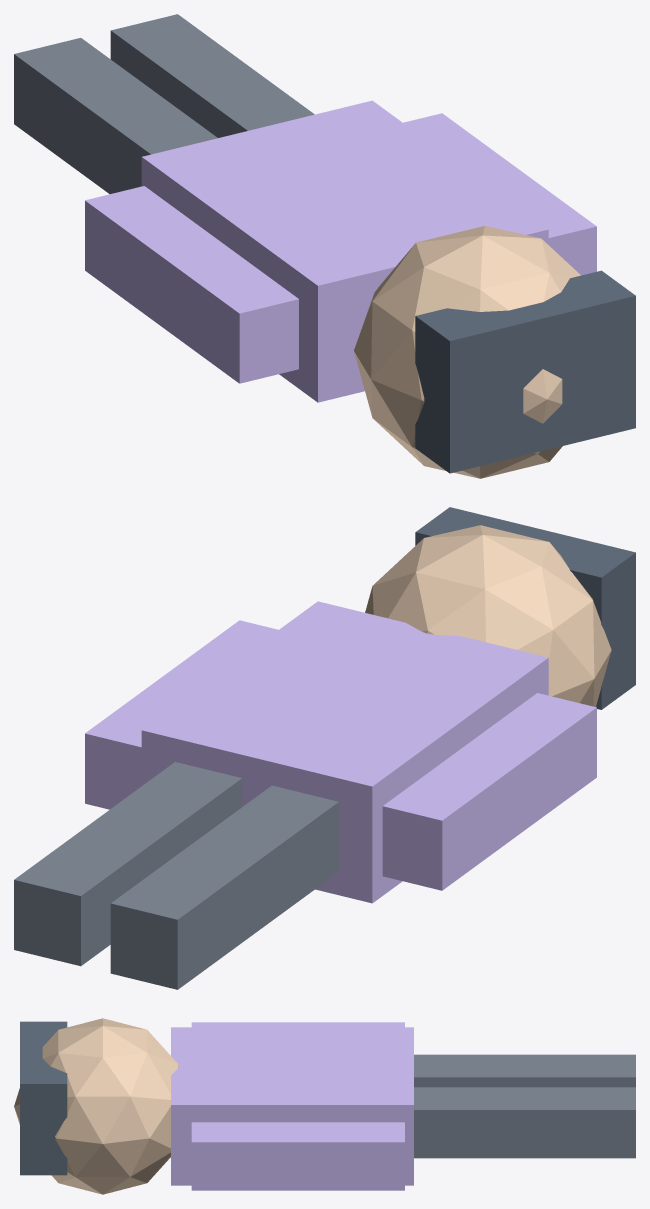
Rendered from manager.glb.
3 views of the same model, one above another, from view 1: azimuth 30°, elevation 25°; view 2: azimuth 150°, elevation 25°; view 3: azimuth 270°, elevation 25° (orthographic). The views are drawn at different scales.
Visible parts, largest first — view 1: torso_2, hair_6, arm_l_3, head_5, leg_l_0, leg_r_1, arm_r_4; view 2: torso_2, leg_l_0, arm_l_3, head_5, leg_r_1, arm_r_4, hair_6; view 3: torso_2, head_5, leg_r_1, arm_r_4, leg_l_0, hair_6, arm_l_3.
Part boxes in pixels (x1=…): torso_2: x1=141, y1=100, x2=548, y2=402; hair_6: x1=415, y1=270, x2=635, y2=473; arm_l_3: x1=85, y1=186, x2=298, y2=383; head_5: x1=354, y1=226, x2=580, y2=478; leg_l_0: x1=14, y1=38, x2=217, y2=193; leg_r_1: x1=110, y1=14, x2=314, y2=137; arm_r_4: x1=403, y1=113, x2=596, y2=275; torso_2: x1=141, y1=601, x2=548, y2=903; leg_l_0: x1=110, y1=785, x2=338, y2=989; arm_l_3: x1=382, y1=693, x2=596, y2=890; head_5: x1=365, y1=525, x2=611, y2=706; leg_r_1: x1=14, y1=762, x2=242, y2=966; arm_r_4: x1=85, y1=620, x2=278, y2=809; hair_6: x1=415, y1=507, x2=635, y2=709; torso_2: x1=171, y1=1027, x2=413, y2=1185; head_5: x1=14, y1=1018, x2=178, y2=1194; leg_r_1: x1=414, y1=1087, x2=635, y2=1158; arm_r_4: x1=191, y1=1122, x2=404, y2=1190; leg_l_0: x1=414, y1=1054, x2=635, y2=1087; hair_6: x1=20, y1=1021, x2=67, y2=1175; arm_l_3: x1=191, y1=1022, x2=404, y2=1027.
Bounding box in the file's own units: 0.96 × 0.6 × 2.1.
